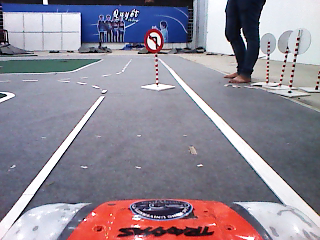ban: (143, 29, 165, 53)
